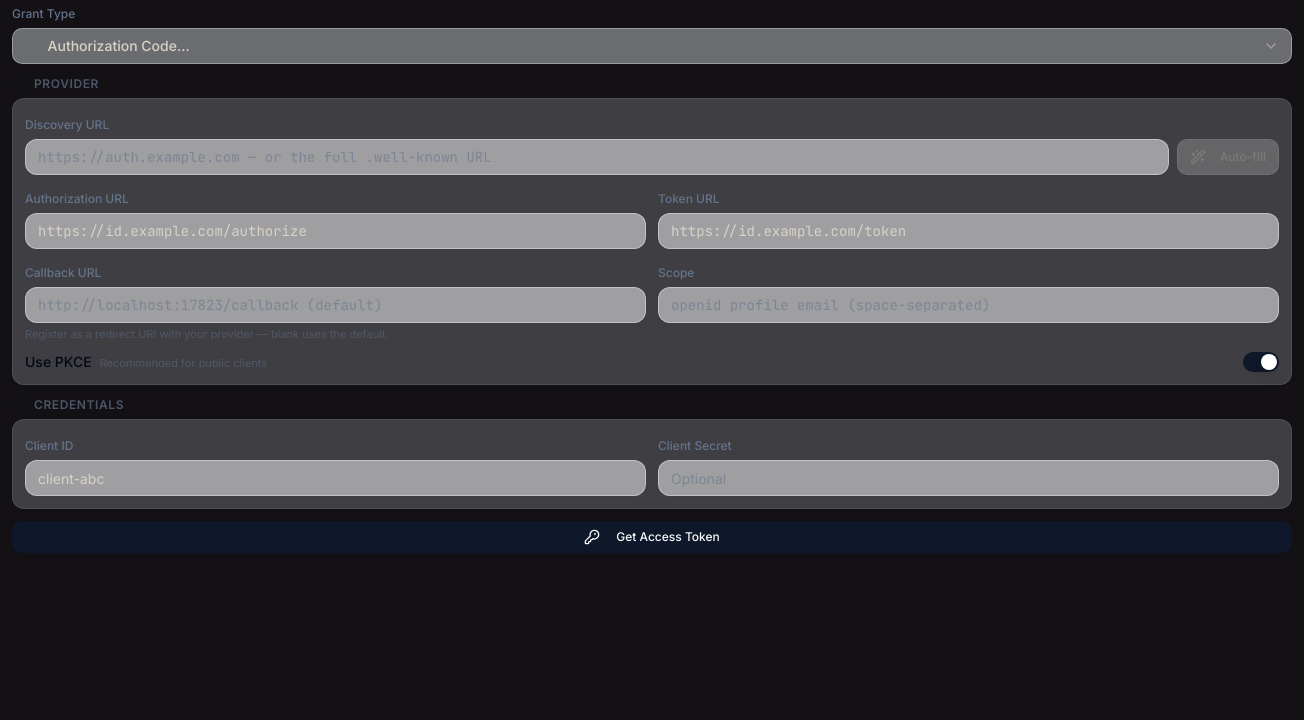
Test: cancelling an authorization code flow › offers a cancel button once the browser sign-in is waiting
The width and height of the screenshot is (1304, 720).
Click the button "Get Access Token": [652, 537] box [12, 521, 1292, 553]
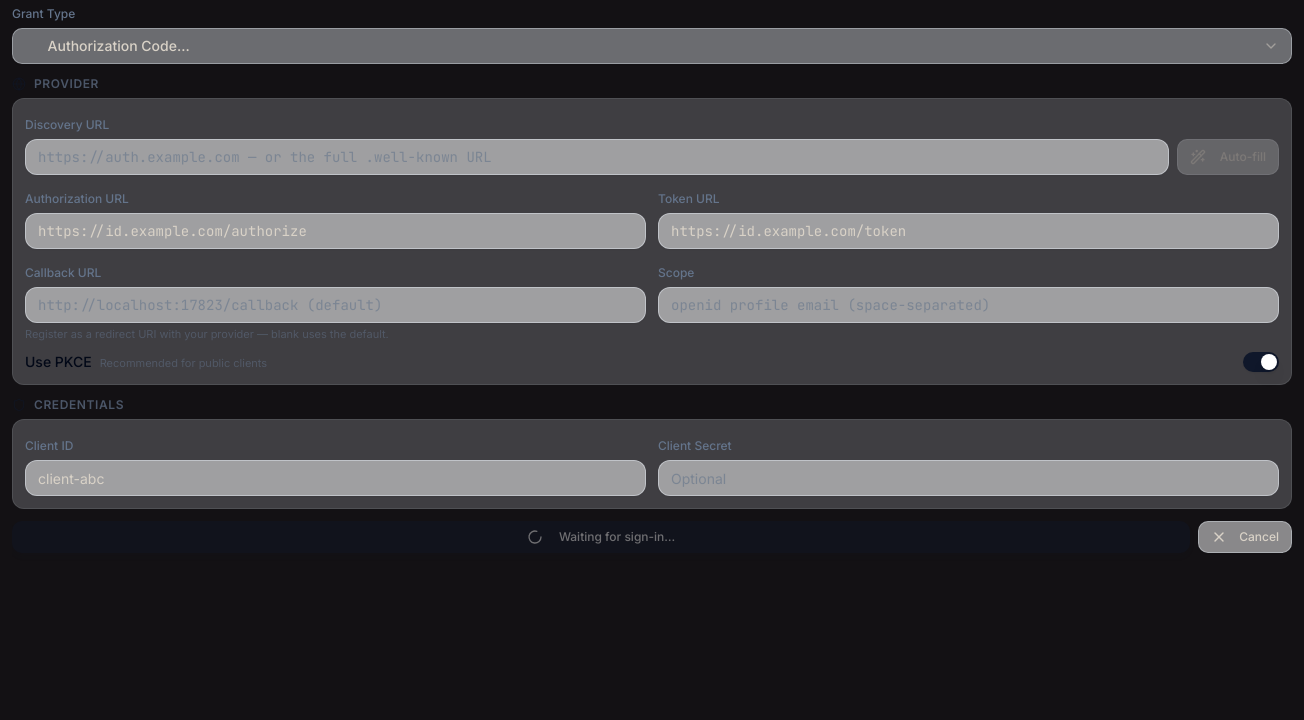
Expected: the button with test id "cancel-token-request" is shown, [1198, 521, 1292, 553]
Expected: the button "Waiting for sign-in…" is shown, [12, 521, 1190, 553]
